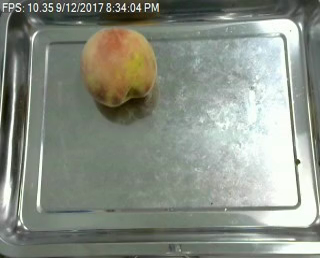Peach: (81, 25, 157, 107)
